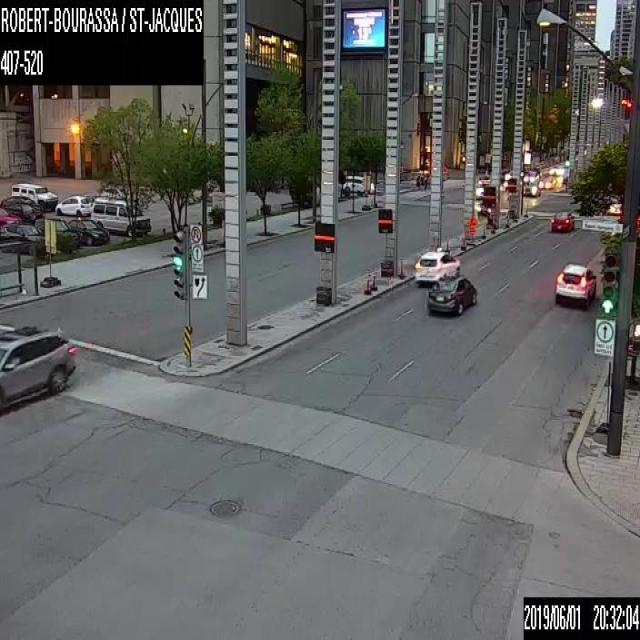construction: (468, 215, 477, 233), (362, 274, 370, 294), (369, 272, 377, 291), (399, 263, 403, 277), (505, 212, 509, 225), (461, 233, 464, 247), (525, 202, 528, 214), (514, 208, 517, 220), (481, 224, 484, 236)
pedestrian: (419, 174, 424, 192), (423, 174, 427, 192), (414, 175, 418, 192)
vehicle: (0, 321, 79, 408), (90, 196, 150, 236), (425, 274, 475, 314), (554, 260, 597, 305), (413, 250, 460, 285), (34, 217, 78, 250), (0, 222, 45, 254), (11, 182, 57, 212), (68, 218, 109, 244), (2, 195, 42, 220), (54, 194, 92, 215), (341, 173, 374, 192), (550, 209, 575, 231), (95, 186, 134, 199), (522, 181, 542, 196), (0, 208, 21, 221), (523, 167, 540, 182), (538, 176, 553, 188)
